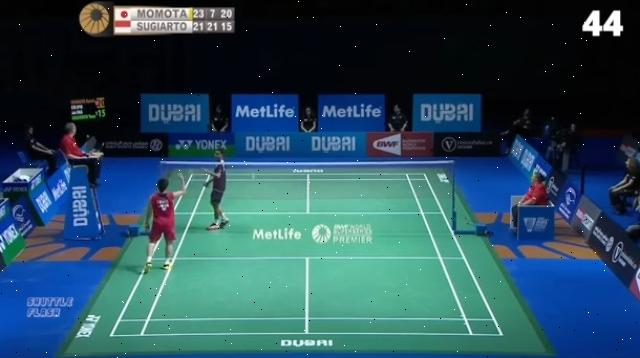Shuttlecock: (248, 172, 258, 182)
